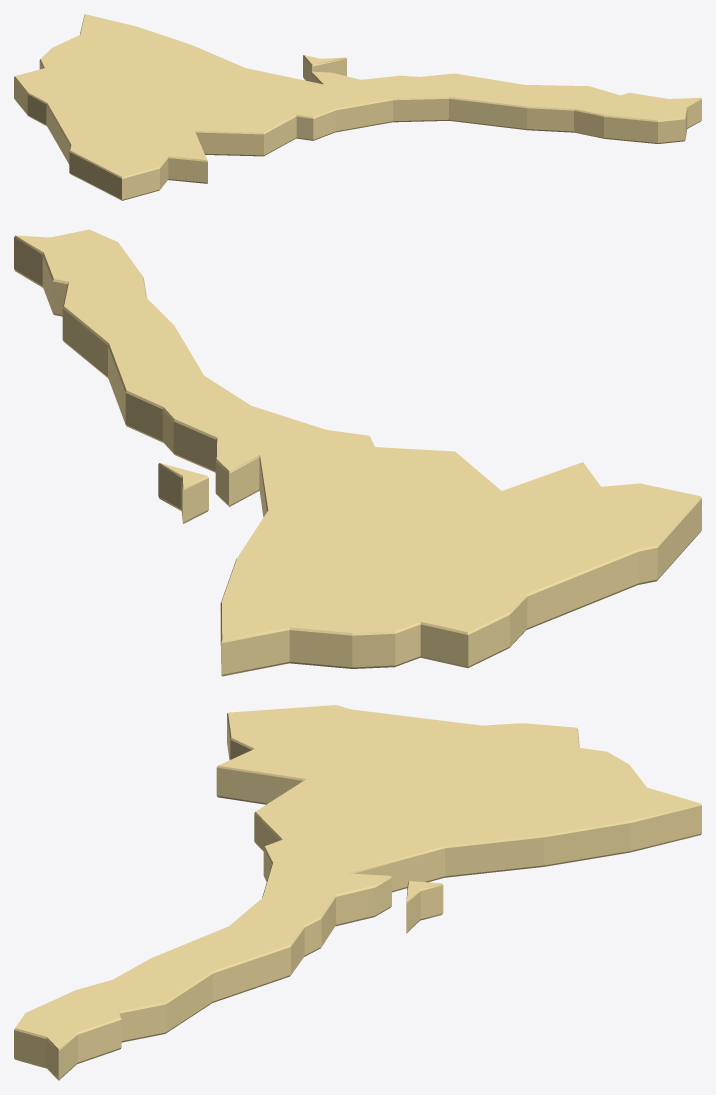
Rendered from ERI.glb.
3 renders of one model, top to bottom at view 1: azimuth 30°, elevation 25°; view 2: azimuth 150°, elevation 25°; view 3: azimuth 270°, elevation 25°, orthographic. The views are drawn at different scales.
Bounding box in the file's own units: 1.58 × 0.068 × 1.33.
